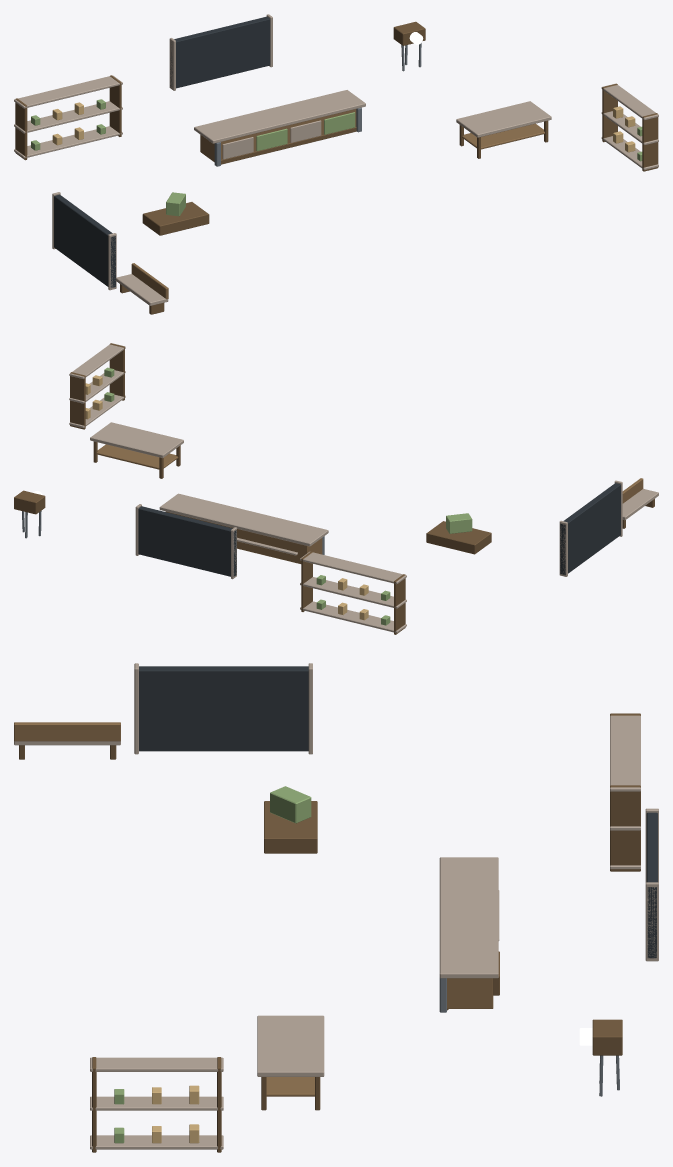
File: westtrail_guide_table.lod1.glb
3 views of the same model, one above another, from view 1: azimuth 30°, elevation 25°; view 2: azimuth 150°, elevation 25°; view 3: azimuth 270°, elevation 25° (orthographic). The views are drawn at different scales.
Size of the model in its own units: 21.55 by 2.82 by 14.45.
